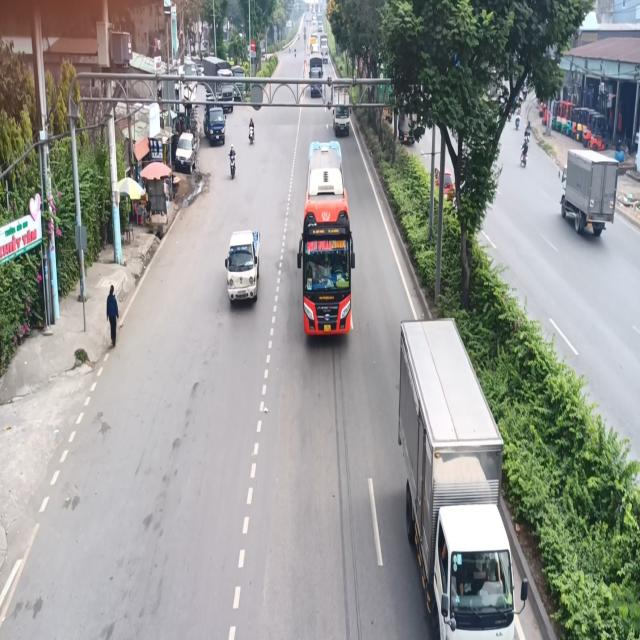bus: (300, 134, 353, 352)
motor: (225, 135, 237, 182), (245, 110, 256, 146)
truck: (390, 313, 525, 640), (225, 217, 264, 311)
